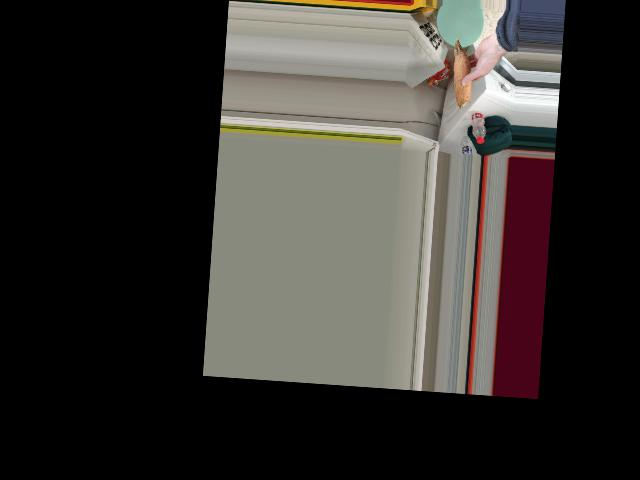sweet_potato: (448, 34, 472, 111)
